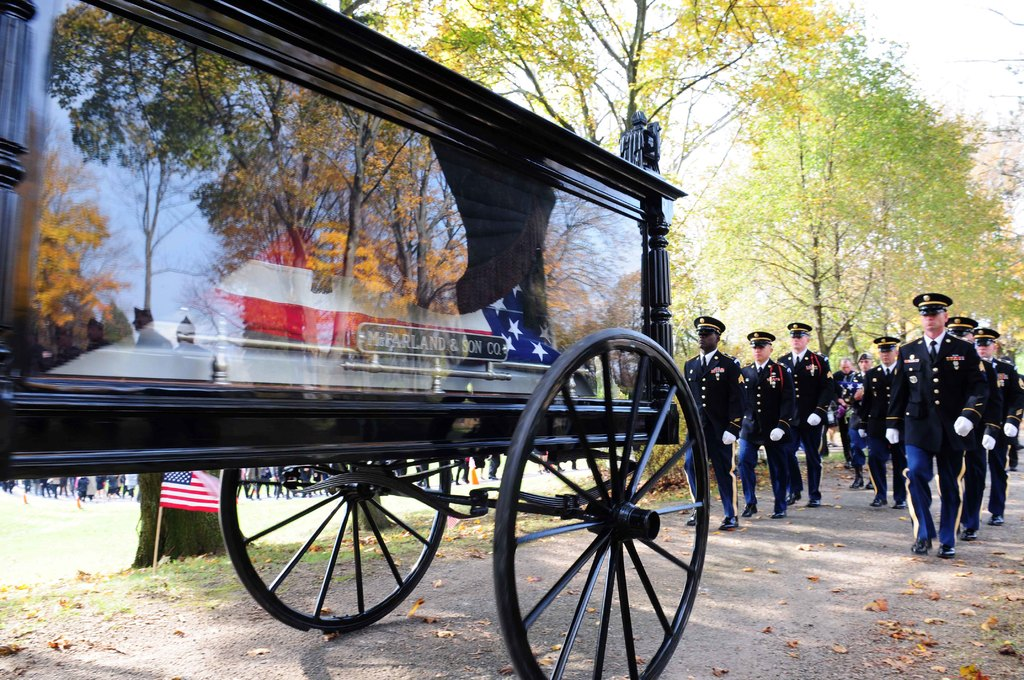Person: (0, 292, 1023, 558), (683, 292, 1024, 557)
